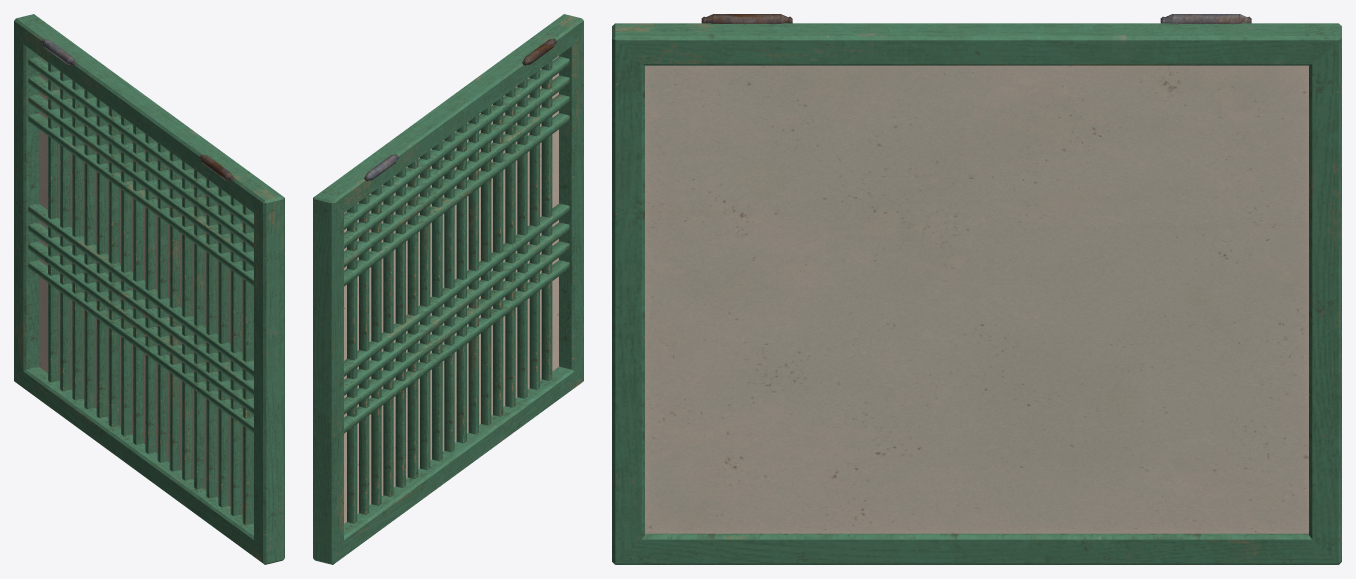
The model's file is SM_Window.fbx.
3 views of the same model, side by side, from view 1: azimuth 30°, elevation 25°; view 2: azimuth 150°, elevation 25°; view 3: azimuth 270°, elevation 25° (orthographic). The views are drawn at different scales.
Visible parts, largest first — view 1: SM_Window; view 2: SM_Window; view 3: SM_Window.
Part boxes in pixels (<box>): SM_Window: <box>14,14,284,564</box>; SM_Window: <box>313,14,583,564</box>; SM_Window: <box>612,14,1341,564</box>.
Size of the model in its own units: 6.19 by 80.85 by 100.
